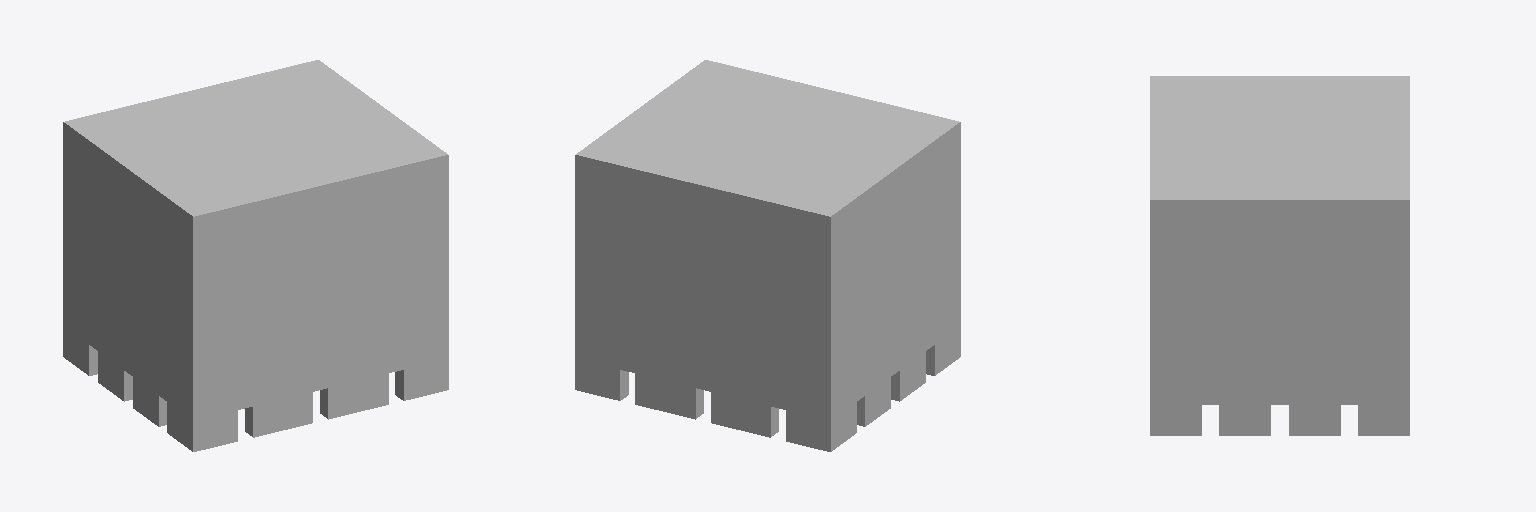
The model's file is alien.obj.
3 renders of one model, left to right at view 1: azimuth 30°, elevation 25°; view 2: azimuth 150°, elevation 25°; view 3: azimuth 270°, elevation 25°, orthographic.
Parts seen in each view (by area): view 1: object 1; view 2: object 1; view 3: object 1.
Boxes of the visible parts, x1=… form: object 1: x1=63, y1=60, x2=448, y2=451; object 1: x1=575, y1=60, x2=960, y2=451; object 1: x1=1150, y1=76, x2=1409, y2=435.
Bounding box in the file's own units: 1.7 × 1.5 × 1.5.